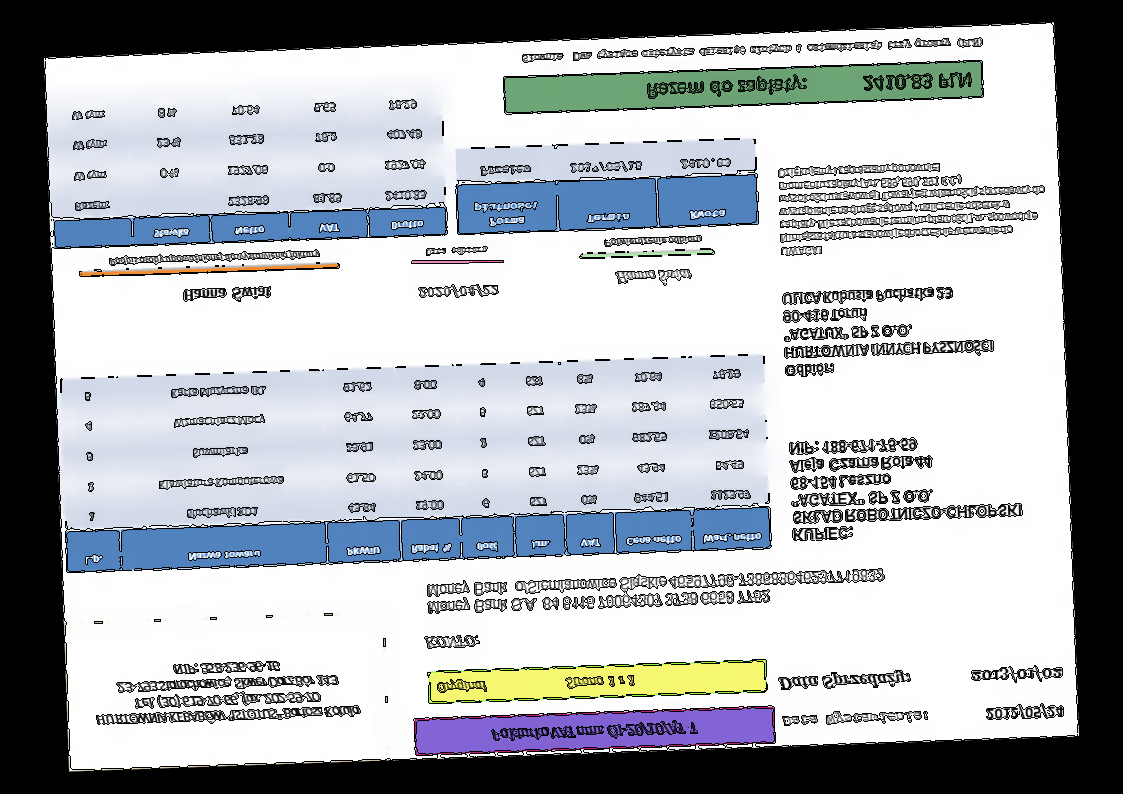Table: (59, 352, 774, 575), (46, 82, 450, 252), (453, 136, 759, 237)
TextBox: (774, 156, 1049, 261), (786, 431, 1024, 546), (424, 565, 888, 621), (780, 282, 996, 381), (91, 654, 362, 729), (520, 33, 985, 67), (644, 67, 975, 105), (433, 670, 638, 698), (487, 719, 703, 744), (107, 248, 325, 270), (777, 666, 913, 694), (778, 707, 931, 729), (970, 662, 1068, 686), (179, 284, 275, 306), (415, 279, 502, 303), (982, 701, 1068, 724), (613, 266, 695, 288), (600, 233, 704, 250), (422, 632, 483, 654), (423, 245, 490, 260)
